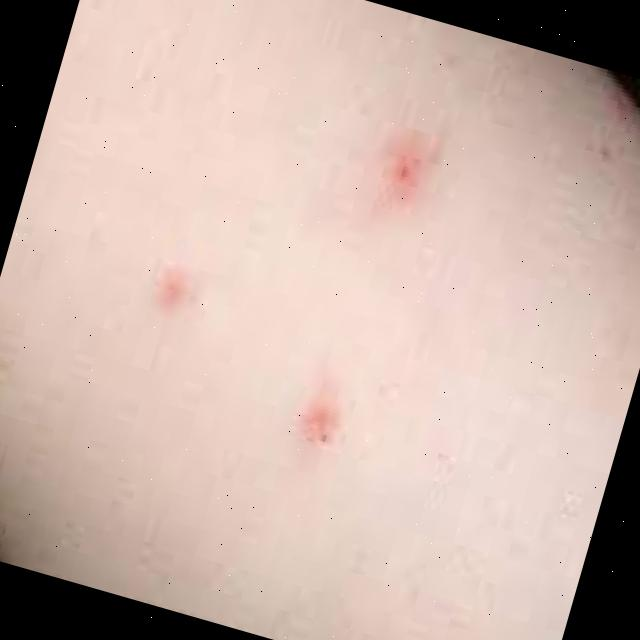kan emici bocekler: (373, 144, 431, 217), (144, 271, 191, 318), (296, 409, 339, 449)
